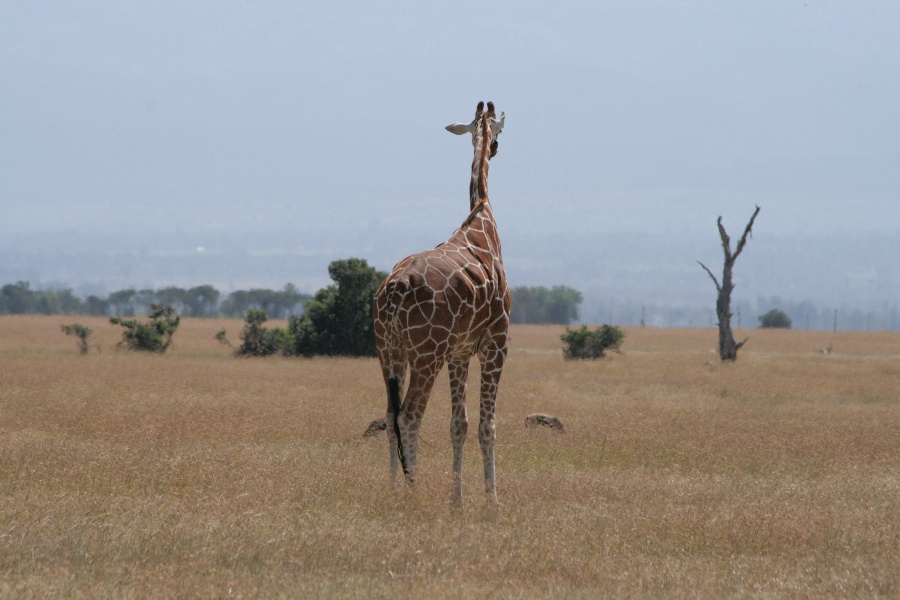giraffe: (367, 89, 517, 511)
